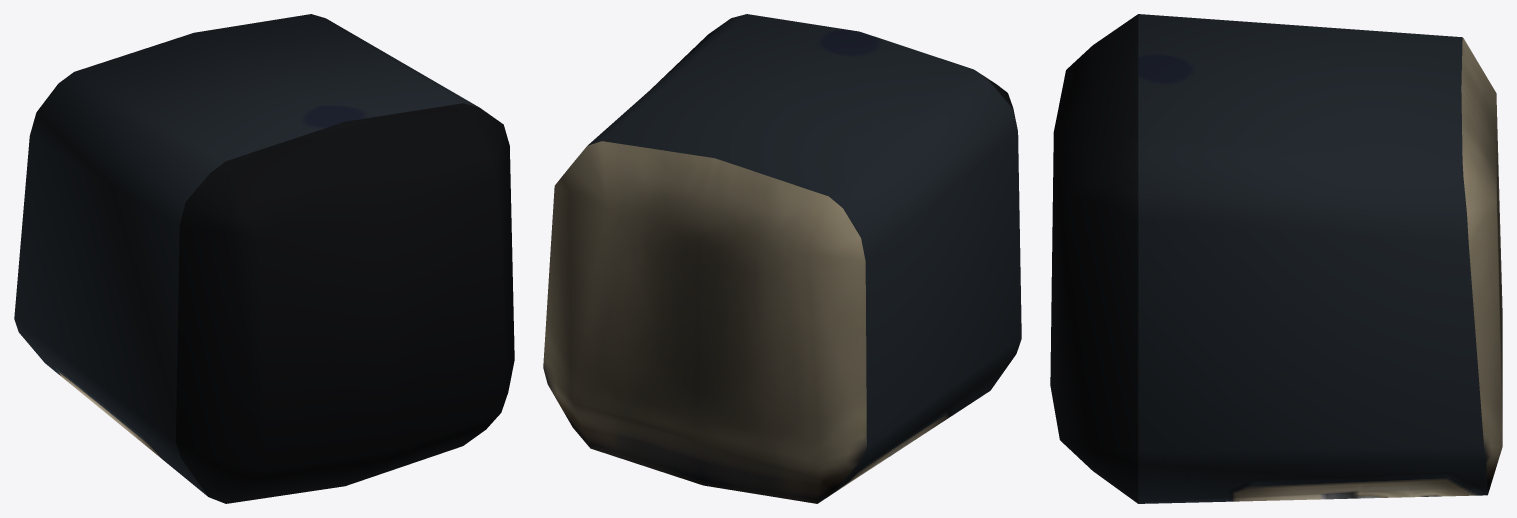
File: Avatar_Swat_H_01_Head_0_68a65a3a__Avatar_Swat_B_4de0d91a_c1f257.obj
The picture shows the model from 3 angles, left to right: view 1: azimuth 30°, elevation 25°; view 2: azimuth 150°, elevation 25°; view 3: azimuth 270°, elevation 25°; orthographic projection. The views are drawn at different scales.
Size of the model in its own units: 0.6857 by 0.7049 by 0.7416.
Materials: 1 (1 with a texture image).
